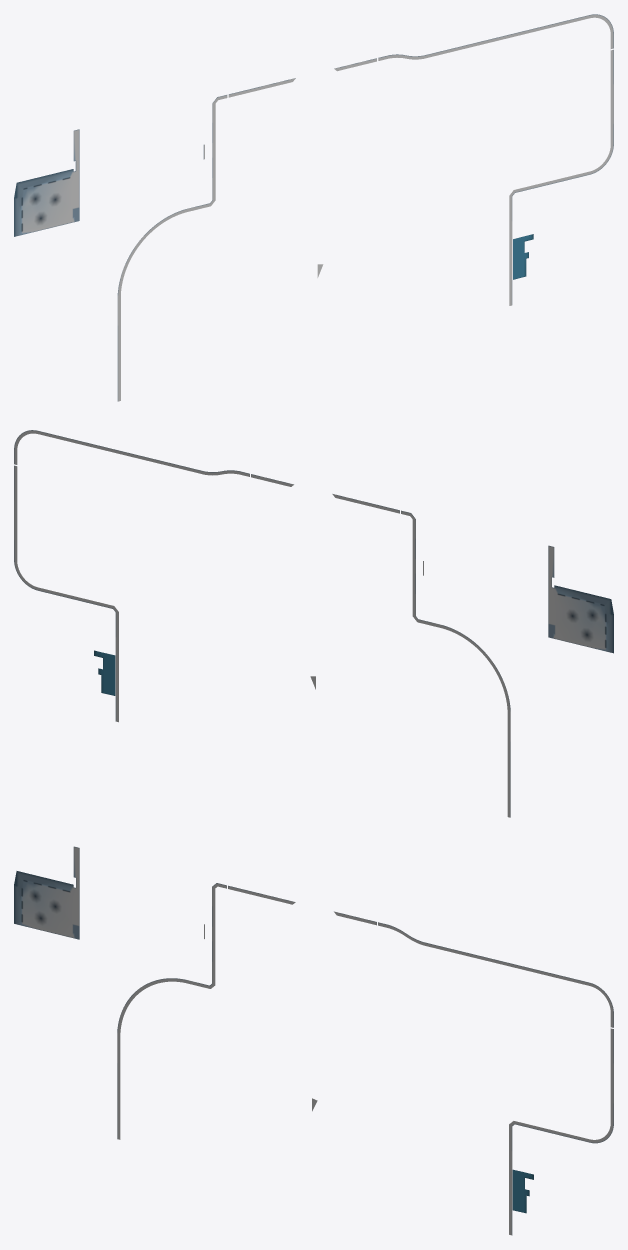
Rendered from SM_000314_merge_road03_blue.fbx.
3 views of the same model, one above another, from view 1: azimuth 30°, elevation 25°; view 2: azimuth 150°, elevation 25°; view 3: azimuth 330°, elevation 25° (orthographic).
Visible parts, largest first — view 1: SM_000314.001; view 2: SM_000314.001; view 3: SM_000314.001.
Boxes of the visible parts, <box> form: SM_000314.001: <box>14,14,613,401</box>; SM_000314.001: <box>14,430,613,817</box>; SM_000314.001: <box>14,846,613,1235</box>.
Size of the model in its own units: 251 by 113 by 2.2.
